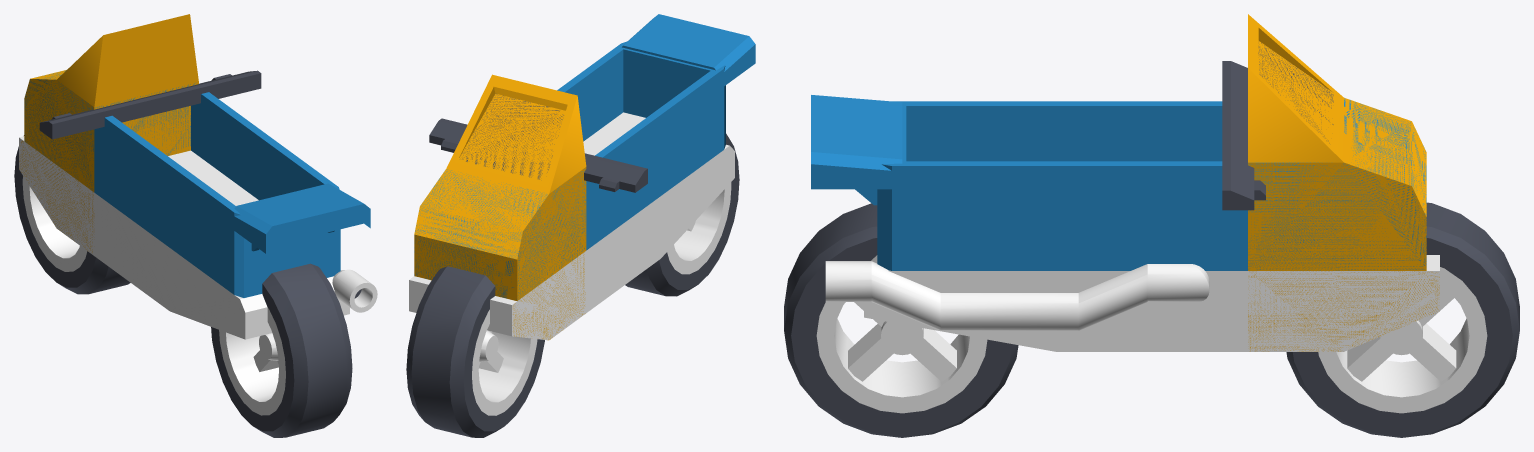
Rendered from Bike01.obj.
3 renders of one model, left to right at view 1: azimuth 30°, elevation 25°; view 2: azimuth 150°, elevation 25°; view 3: azimuth 270°, elevation 25°, orthographic. The views are drawn at different scales.
Visible parts, largest first — view 1: trunk_bed_9, trunk_default_8, wheel_smallSports_7, detail_spoilerRound_10, wheel_smallSports_5, detail_bumper_12, detail_exhaust_11; view 2: trunk_default_8, trunk_bed_9, wheel_smallSports_5, wheel_smallSports_7, detail_spoilerRound_10, detail_bumper_12; view 3: trunk_bed_9, trunk_default_8, wheel_smallSports_5, wheel_smallSports_7, detail_exhaust_11, detail_spoilerRound_10, detail_bumper_12.
Boxes of the visible parts, x1,y1,x2,y2 form: trunk_bed_9: (94, 92, 349, 339); trunk_default_8: (19, 14, 198, 255); wheel_smallSports_7: (211, 263, 352, 437); detail_spoilerRound_10: (230, 183, 370, 253); wheel_smallSports_5: (14, 135, 130, 294); detail_bumper_12: (39, 70, 261, 139); detail_exhaust_11: (332, 269, 377, 312); trunk_default_8: (409, 74, 586, 340); trunk_bed_9: (557, 41, 734, 312); wheel_smallSports_5: (406, 266, 544, 437); wheel_smallSports_7: (625, 133, 739, 296); detail_spoilerRound_10: (622, 14, 755, 85); detail_bumper_12: (429, 118, 647, 192); trunk_bed_9: (864, 101, 1247, 351); trunk_default_8: (1248, 14, 1439, 351); wheel_smallSports_5: (1286, 202, 1519, 437); wheel_smallSports_7: (784, 203, 1018, 437); detail_exhaust_11: (825, 261, 1209, 330); detail_spoilerRound_10: (811, 95, 902, 205); detail_bumper_12: (1222, 61, 1265, 210).
Size of the model in its own units: 0.8 by 1.11 by 1.92.
